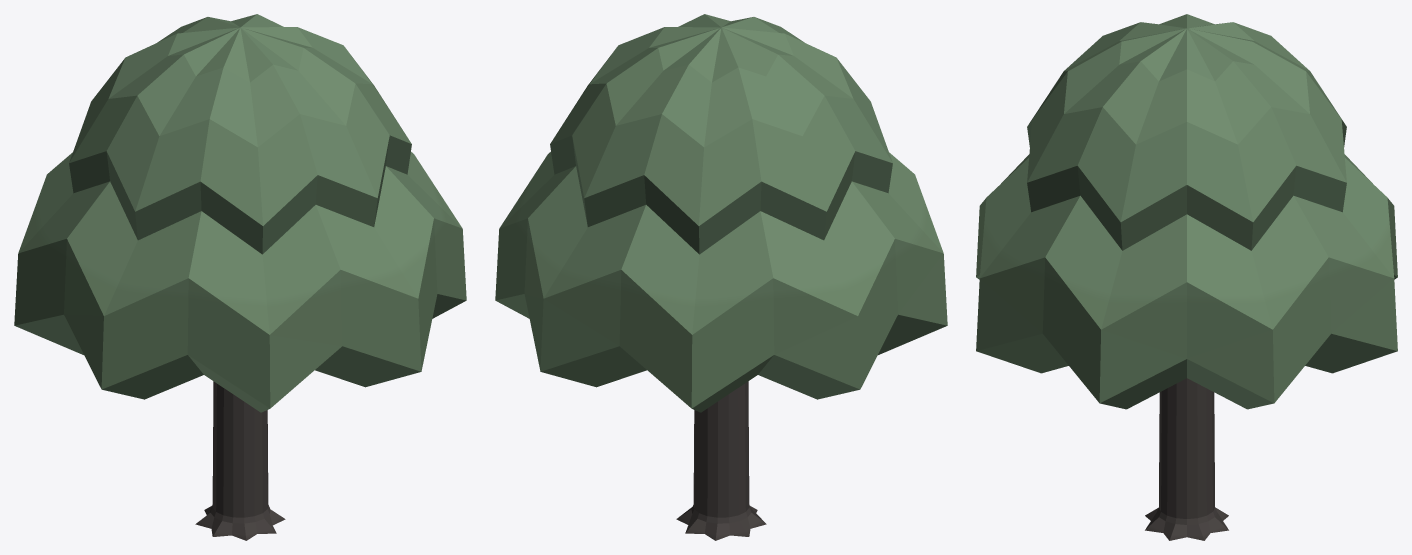
File: tree.glb
The picture shows the model from 3 angles, left to right: view 1: azimuth 30°, elevation 25°; view 2: azimuth 150°, elevation 25°; view 3: azimuth 270°, elevation 25°; orthographic projection.
Parts seen in each view (by area): view 1: tree; view 2: tree; view 3: tree.
Boxes of the visible parts, x1,y1,x2,y2 form: tree: (14, 14, 466, 540); tree: (495, 14, 947, 540); tree: (976, 14, 1397, 540).
Size of the model in its own units: 3.86 by 5 by 3.86.
1 material, 1 textured.
